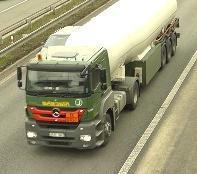truck: (16, 0, 180, 151)
